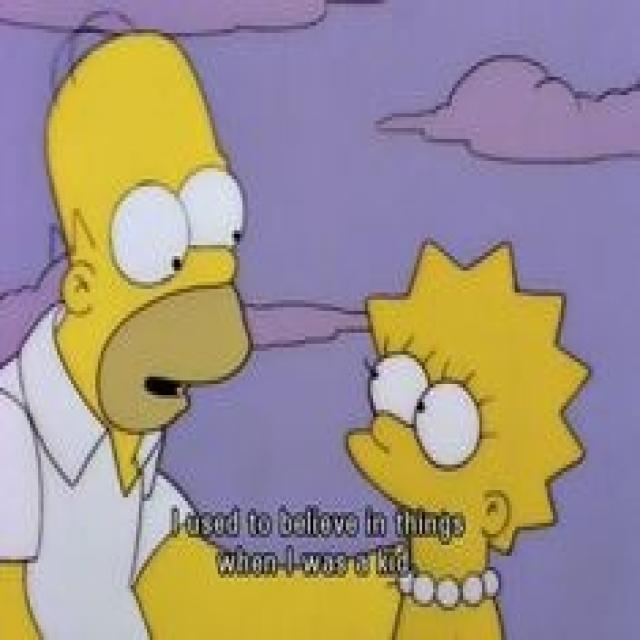Homer Simpson: (29, 0, 260, 468)
Lisa Simpson: (340, 232, 596, 609)
